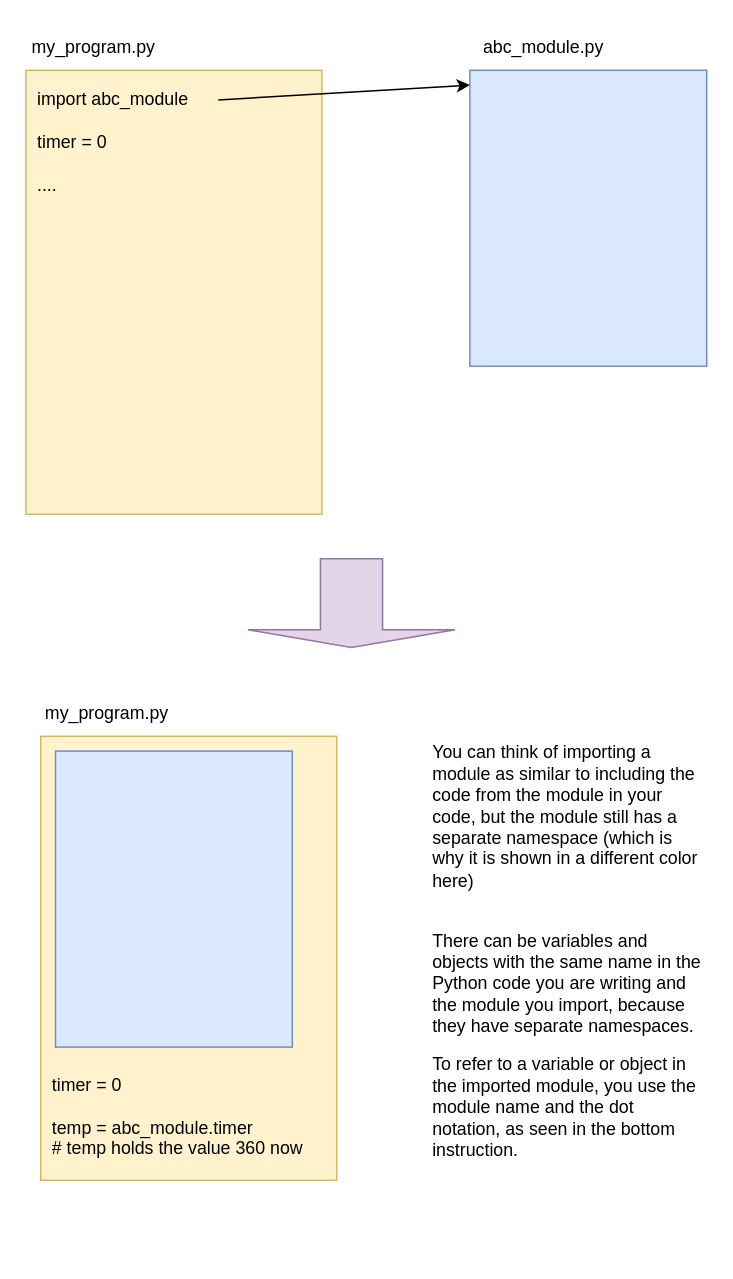
Some shapes in this 733 by 1279 pixel diagram are drawn without their labels. The centre of each missing label's shape, as x and y in pixels:
"# abc_module.py .... .... .... timer = 360 ...." goes at (173,898).
".... .... .... timer = 360 ...." goes at (587,217).
